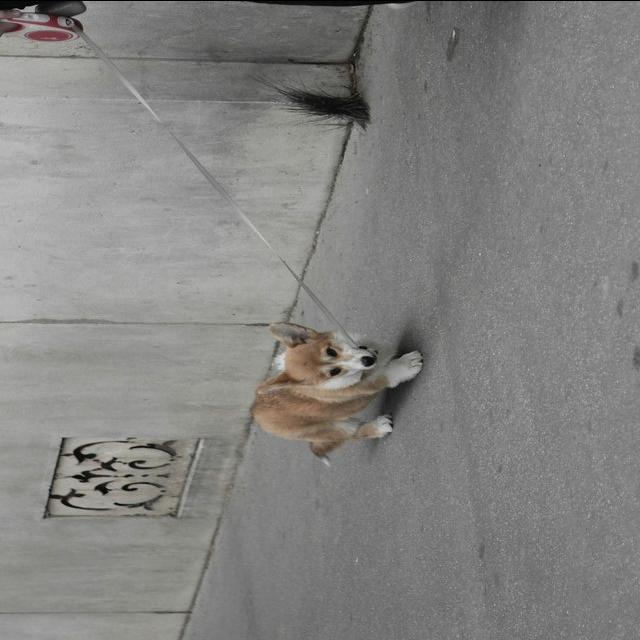corgi: (249, 321, 423, 466)
